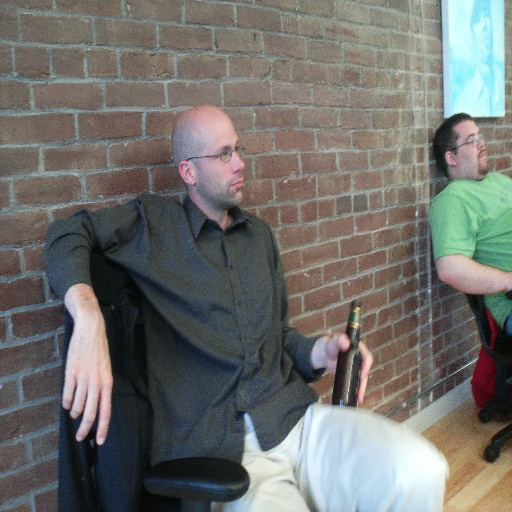hand: (60, 318, 114, 448), (328, 331, 381, 401)
